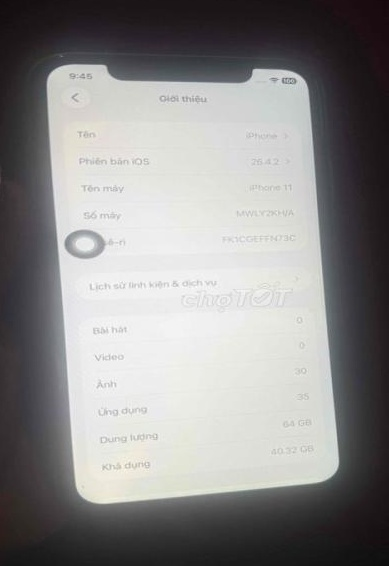scratch: (56, 51, 67, 59)
